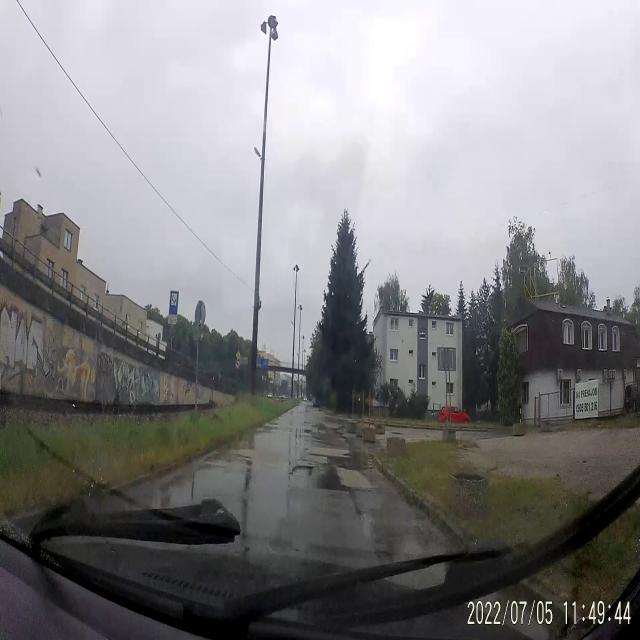Pothole: (286, 457, 314, 485), (208, 448, 254, 464)
